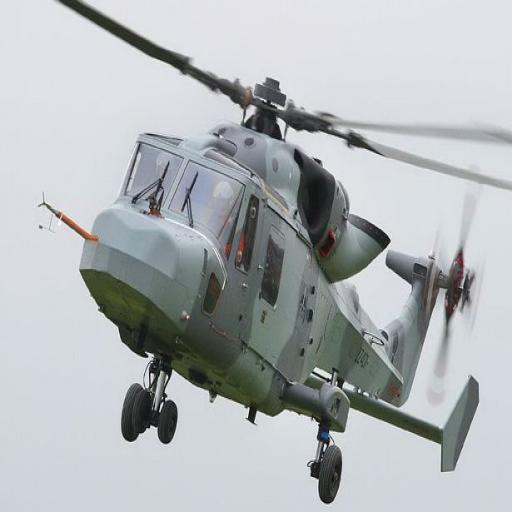helicopter: (42, 2, 512, 467)
